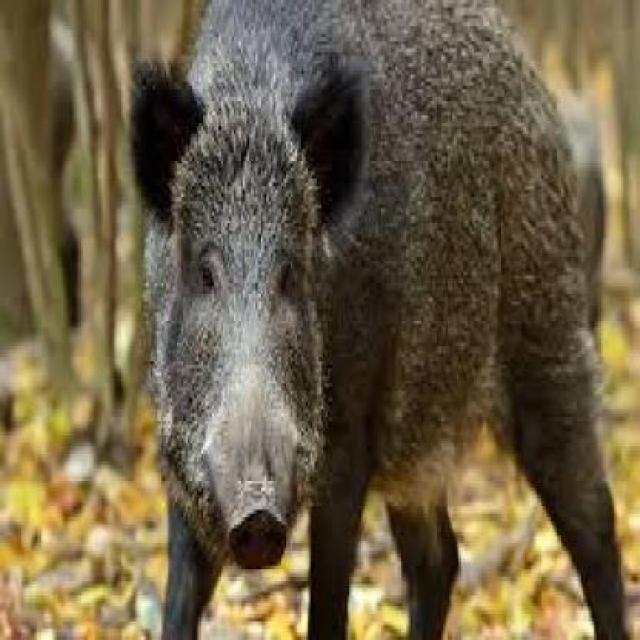wildboar: (130, 0, 627, 640)
